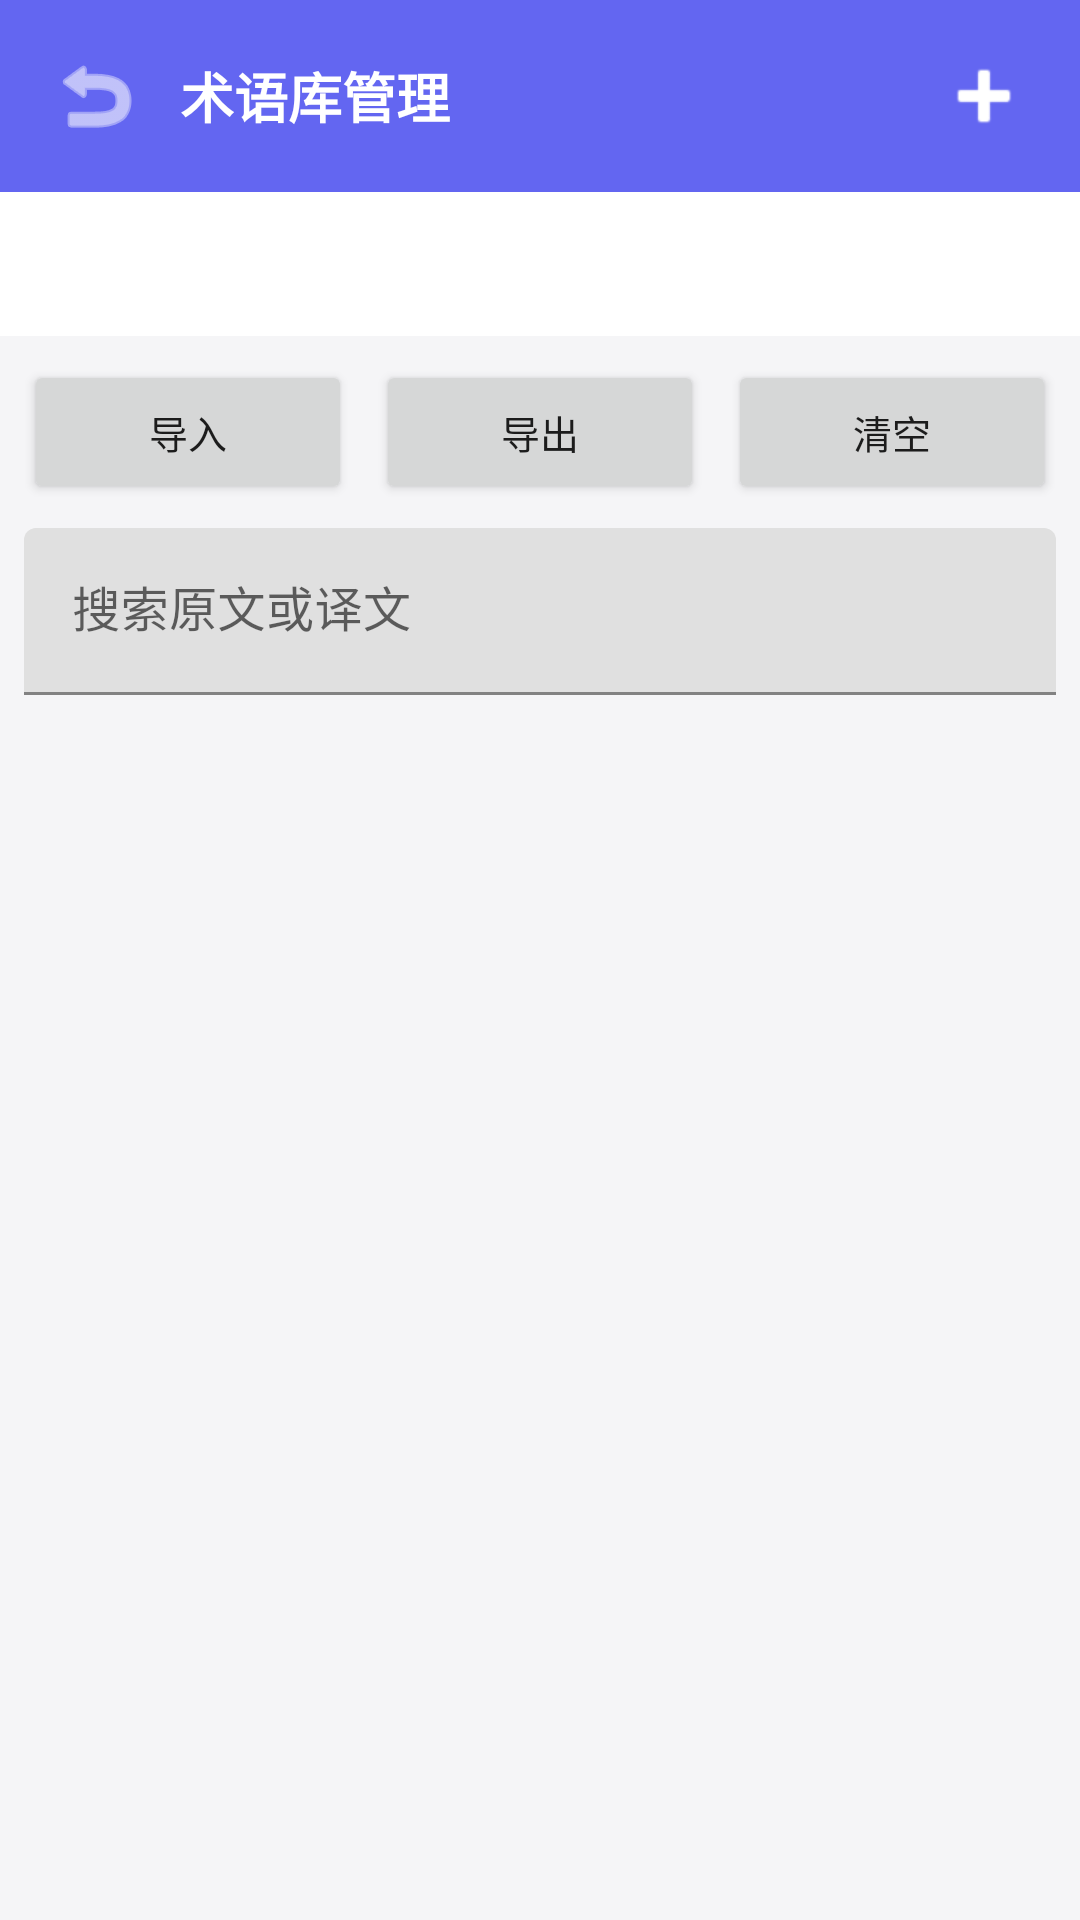

Named icons in this screenshot (1080px×1920px) and their centers, [x,y]:
添加: [984,96]
返回: [97,97]
